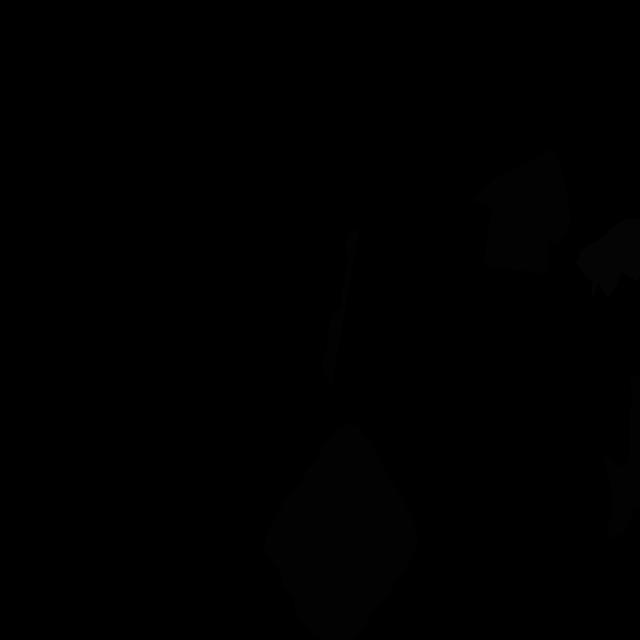cardboard: (263, 423, 418, 640), (469, 148, 572, 275), (322, 228, 360, 385), (600, 455, 636, 538), (626, 374, 640, 512)
soft_plastic: (576, 218, 640, 300)
